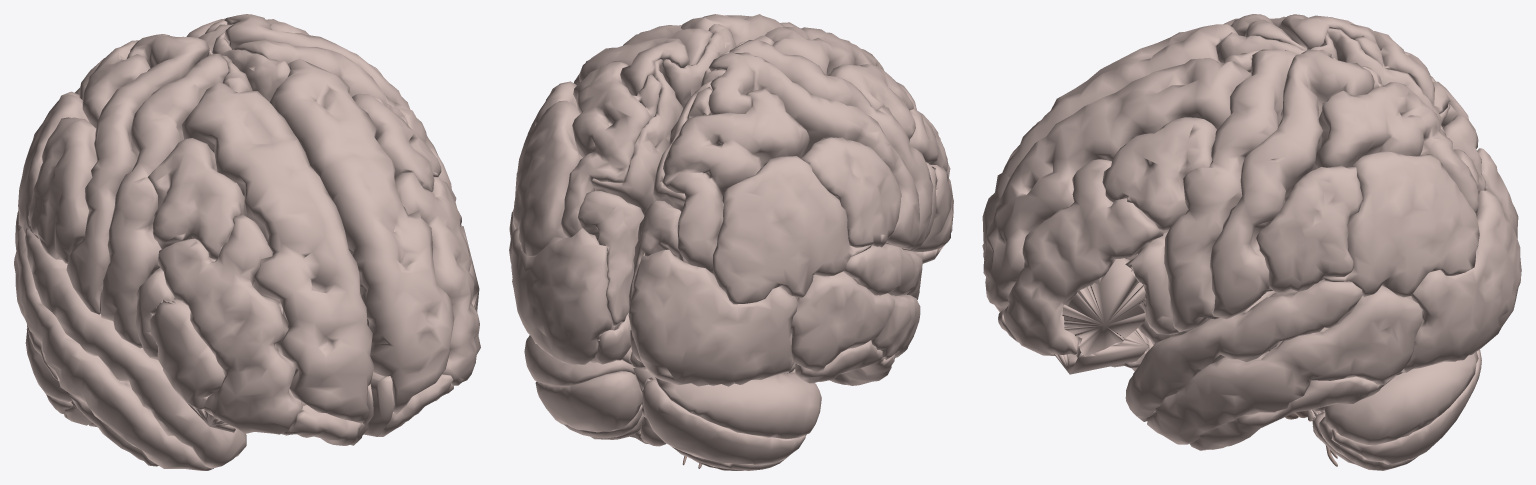
Rendered from atlas_nervous_mni152.nervous.LOD2.glb.
The picture shows the model from 3 angles, left to right: view 1: azimuth 30°, elevation 25°; view 2: azimuth 150°, elevation 25°; view 3: azimuth 270°, elevation 25°; orthographic projection. The views are drawn at different scales.
Parts seen in each view (by area): view 1: ATLAS.NERVOUS.MNI152.NERVOUS.SUPERIOR_FRONTAL_GYRUS.R, ATLAS.NERVOUS.MNI152.NERVOUS.SUPERIOR_FRONTAL_GYRUS.L, ATLAS.NERVOUS.MNI152.NERVOUS.ROSTRAL_MIDDLE_FRONTAL_GYRUS.R, ATLAS.NERVOUS.MNI152.NERVOUS.PRECENTRAL_GYRUS.R, ATLAS.NERVOUS.MNI152.NERVOUS.SUPERIOR_TEMPORAL_GYRUS.R, ATLAS.NERVOUS.MNI152.NERVOUS.POSTCENTRAL_GYRUS.R, ATLAS.NERVOUS.MNI152.NERVOUS.MIDDLE_TEMPORAL_GYRUS.R, ATLAS.NERVOUS.MNI152.NERVOUS.CAUDAL_MIDDLE_FRONTAL_GYRUS.R, ATLAS.NERVOUS.MNI152.NERVOUS.ROSTRAL_MIDDLE_FRONTAL_GYRUS.L, ATLAS.NERVOUS.MNI152.NERVOUS.SUPRAMARGINAL_GYRUS.R, ATLAS.NERVOUS.MNI152.NERVOUS.INFERIOR_FRONTAL_GYRUS_PARS_TRI, ATLAS.NERVOUS.MNI152.NERVOUS.PRECENTRAL_GYRUS.L (+13 smaller); view 2: ATLAS.NERVOUS.MNI152.NERVOUS.INFERIOR_PARIETAL_LOBULE_ANGULA (×2), ATLAS.NERVOUS.MNI152.NERVOUS.LATERAL_OCCIPITAL_CORTEX.R, ATLAS.NERVOUS.MNI152.NERVOUS.SUPERIOR_PARIETAL_LOBULE.R, ATLAS.NERVOUS.MNI152.NERVOUS.LATERAL_OCCIPITAL_CORTEX.L, ATLAS.NERVOUS.MNI152.NERVOUS.POSTCENTRAL_GYRUS.R, ATLAS.NERVOUS.MNI152.NERVOUS.MIDDLE_TEMPORAL_GYRUS.R, ATLAS.NERVOUS.MNI152.NERVOUS.SUPERIOR_PARIETAL_LOBULE.L, ATLAS.NERVOUS.MNI152.NERVOUS.CRUS_I.R, ATLAS.NERVOUS.MNI152.NERVOUS.SUPRAMARGINAL_GYRUS.R, ATLAS.NERVOUS.MNI152.NERVOUS.CRUS_II.R, ATLAS.NERVOUS.MNI152.NERVOUS.PRECENTRAL_GYRUS.R, ATLAS.NERVOUS.MNI152.NERVOUS.CRUS_II.L (+19 smaller); view 3: ATLAS.NERVOUS.MNI152.NERVOUS.SUPERIOR_FRONTAL_GYRUS.L, ATLAS.NERVOUS.MNI152.NERVOUS.MIDDLE_TEMPORAL_GYRUS.L, ATLAS.NERVOUS.MNI152.NERVOUS.INFERIOR_PARIETAL_LOBULE_ANGULA, ATLAS.NERVOUS.MNI152.NERVOUS.POSTCENTRAL_GYRUS.L, ATLAS.NERVOUS.MNI152.NERVOUS.ROSTRAL_MIDDLE_FRONTAL_GYRUS.L, ATLAS.NERVOUS.MNI152.NERVOUS.PRECENTRAL_GYRUS.L, ATLAS.NERVOUS.MNI152.NERVOUS.SUPERIOR_TEMPORAL_GYRUS.L, ATLAS.NERVOUS.MNI152.NERVOUS.LATERAL_OCCIPITAL_CORTEX.L, ATLAS.NERVOUS.MNI152.NERVOUS.SUPERIOR_PARIETAL_LOBULE.L, ATLAS.NERVOUS.MNI152.NERVOUS.SUPRAMARGINAL_GYRUS.L, ATLAS.NERVOUS.MNI152.NERVOUS.CAUDAL_MIDDLE_FRONTAL_GYRUS.L, ATLAS.NERVOUS.MNI152.NERVOUS.CRUS_I.L (+14 smaller).
Part boxes in pixels (<box>): ATLAS.NERVOUS.MNI152.NERVOUS.SUPERIOR_FRONTAL_GYRUS.R: <box>181,82,374,423</box>; ATLAS.NERVOUS.MNI152.NERVOUS.SUPERIOR_FRONTAL_GYRUS.L: <box>269,58,454,414</box>; ATLAS.NERVOUS.MNI152.NERVOUS.ROSTRAL_MIDDLE_FRONTAL_GYRUS.R: <box>158,215,302,434</box>; ATLAS.NERVOUS.MNI152.NERVOUS.PRECENTRAL_GYRUS.R: <box>100,53,228,348</box>; ATLAS.NERVOUS.MNI152.NERVOUS.SUPERIOR_TEMPORAL_GYRUS.R: <box>25,228,246,468</box>; ATLAS.NERVOUS.MNI152.NERVOUS.POSTCENTRAL_GYRUS.R: <box>66,34,209,314</box>; ATLAS.NERVOUS.MNI152.NERVOUS.MIDDLE_TEMPORAL_GYRUS.R: <box>14,227,213,470</box>; ATLAS.NERVOUS.MNI152.NERVOUS.CAUDAL_MIDDLE_FRONTAL_GYRUS.R: <box>147,138,244,259</box>; ATLAS.NERVOUS.MNI152.NERVOUS.ROSTRAL_MIDDLE_FRONTAL_GYRUS.L: <box>394,171,480,385</box>; ATLAS.NERVOUS.MNI152.NERVOUS.SUPRAMARGINAL_GYRUS.R: <box>28,117,97,263</box>; ATLAS.NERVOUS.MNI152.NERVOUS.INFERIOR_FRONTAL_GYRUS_PARS_TRI: <box>150,299,224,409</box>; ATLAS.NERVOUS.MNI152.NERVOUS.PRECENTRAL_GYRUS.L: <box>234,40,456,201</box>; ATLAS.NERVOUS.MNI152.NERVOUS.INFERIOR_PARIETAL_LOBULE_ANGULA (×2): <box>512,100,871,304</box>; ATLAS.NERVOUS.MNI152.NERVOUS.LATERAL_OCCIPITAL_CORTEX.R: <box>628,249,797,386</box>; ATLAS.NERVOUS.MNI152.NERVOUS.SUPERIOR_PARIETAL_LOBULE.R: <box>662,87,809,273</box>; ATLAS.NERVOUS.MNI152.NERVOUS.LATERAL_OCCIPITAL_CORTEX.L: <box>511,227,612,365</box>; ATLAS.NERVOUS.MNI152.NERVOUS.POSTCENTRAL_GYRUS.R: <box>708,52,919,249</box>; ATLAS.NERVOUS.MNI152.NERVOUS.MIDDLE_TEMPORAL_GYRUS.R: <box>791,271,920,372</box>; ATLAS.NERVOUS.MNI152.NERVOUS.SUPERIOR_PARIETAL_LOBULE.L: <box>560,60,662,237</box>; ATLAS.NERVOUS.MNI152.NERVOUS.CRUS_I.R: <box>655,372,821,439</box>; ATLAS.NERVOUS.MNI152.NERVOUS.SUPRAMARGINAL_GYRUS.R: <box>800,137,901,247</box>; ATLAS.NERVOUS.MNI152.NERVOUS.CRUS_II.R: <box>642,379,806,465</box>; ATLAS.NERVOUS.MNI152.NERVOUS.PRECENTRAL_GYRUS.R: <box>729,40,933,250</box>; ATLAS.NERVOUS.MNI152.NERVOUS.CRUS_II.L: <box>535,371,642,432</box>; ATLAS.NERVOUS.MNI152.NERVOUS.SUPERIOR_FRONTAL_GYRUS.L: <box>983,58,1250,312</box>; ATLAS.NERVOUS.MNI152.NERVOUS.MIDDLE_TEMPORAL_GYRUS.L: <box>1147,285,1422,444</box>; ATLAS.NERVOUS.MNI152.NERVOUS.INFERIOR_PARIETAL_LOBULE_ANGULA: <box>1324,151,1479,297</box>; ATLAS.NERVOUS.MNI152.NERVOUS.POSTCENTRAL_GYRUS.L: <box>1209,49,1374,319</box>; ATLAS.NERVOUS.MNI152.NERVOUS.ROSTRAL_MIDDLE_FRONTAL_GYRUS.L: <box>1003,159,1163,355</box>; ATLAS.NERVOUS.MNI152.NERVOUS.PRECENTRAL_GYRUS.L: <box>1164,49,1296,332</box>; ATLAS.NERVOUS.MNI152.NERVOUS.SUPERIOR_TEMPORAL_GYRUS.L: <box>1125,279,1362,421</box>; ATLAS.NERVOUS.MNI152.NERVOUS.LATERAL_OCCIPITAL_CORTEX.L: <box>1401,188,1521,372</box>; ATLAS.NERVOUS.MNI152.NERVOUS.SUPERIOR_PARIETAL_LOBULE.L: <box>1312,66,1478,213</box>; ATLAS.NERVOUS.MNI152.NERVOUS.SUPRAMARGINAL_GYRUS.L: <box>1256,166,1363,293</box>; ATLAS.NERVOUS.MNI152.NERVOUS.CAUDAL_MIDDLE_FRONTAL_GYRUS.L: <box>1102,117,1216,232</box>; ATLAS.NERVOUS.MNI152.NERVOUS.CRUS_I.L: <box>1325,352,1478,445</box>.
Bounding box in the file's own units: 0.1448 × 0.1588 × 0.1814.
